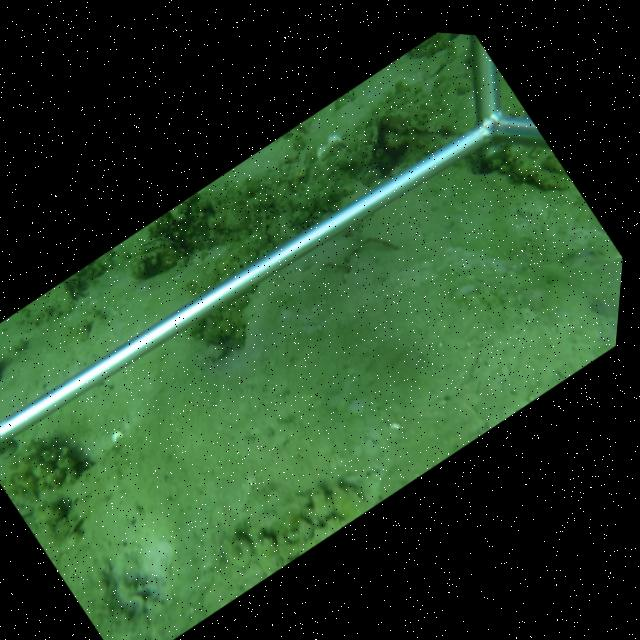Oyster-Closed: (503, 151, 571, 191)
Oyster-Indeterminate: (131, 233, 195, 279)
